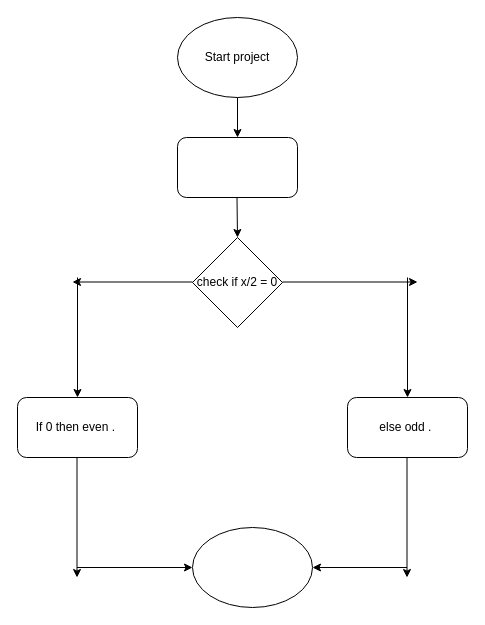
The diagram is 485 pixels wide and 625 high, and some of its shapes have lost their labels. The box of each missing label's shape, as (x1, y1, x2, y2) in pixels:
Get number from user .: (176, 136, 298, 198)
stop the project .: (192, 526, 312, 608)
